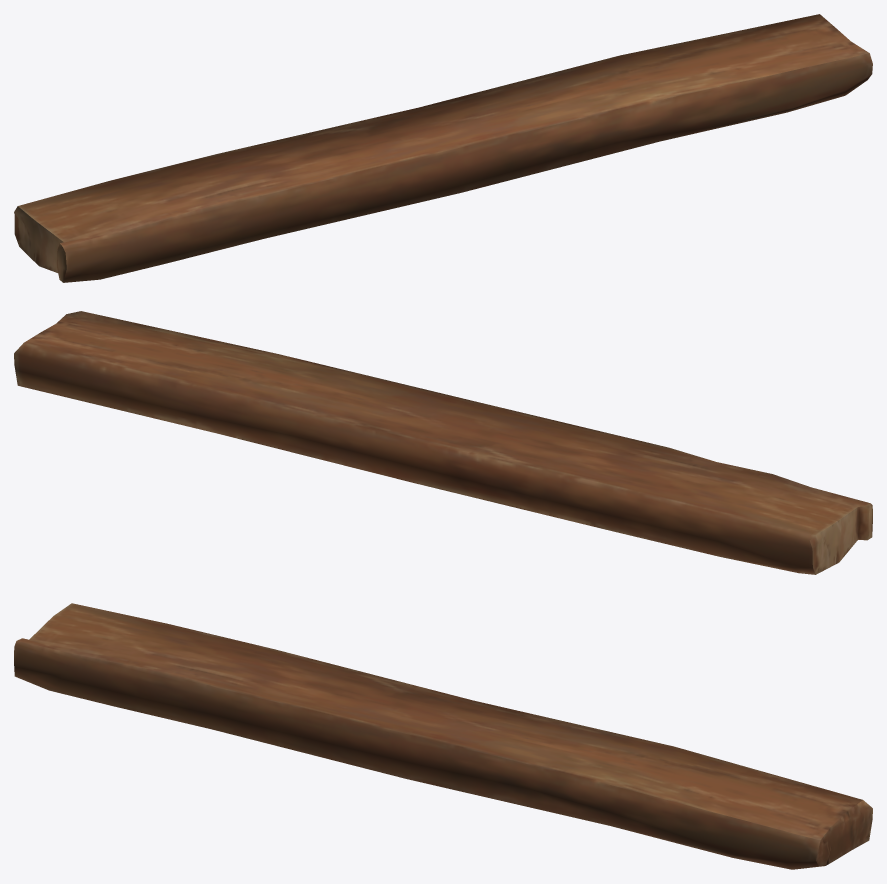
The model's file is SM_Farm_Plank_Damaged_02.fbx.
The picture shows the model from 3 angles, top to bottom: view 1: azimuth 30°, elevation 25°; view 2: azimuth 150°, elevation 25°; view 3: azimuth 330°, elevation 25°; orthographic projection.
Visible parts, largest first — view 1: SM_Farm_Plank_Damaged_02_LOD0; view 2: SM_Farm_Plank_Damaged_02_LOD0; view 3: SM_Farm_Plank_Damaged_02_LOD0.
Part boxes in pixels (x1,y1,x2,y2): SM_Farm_Plank_Damaged_02_LOD0: (14,14,872,282); SM_Farm_Plank_Damaged_02_LOD0: (14,311,872,574); SM_Farm_Plank_Damaged_02_LOD0: (14,603,872,869).
Bounding box in the file's own units: 215 × 11.76 × 25.88.
